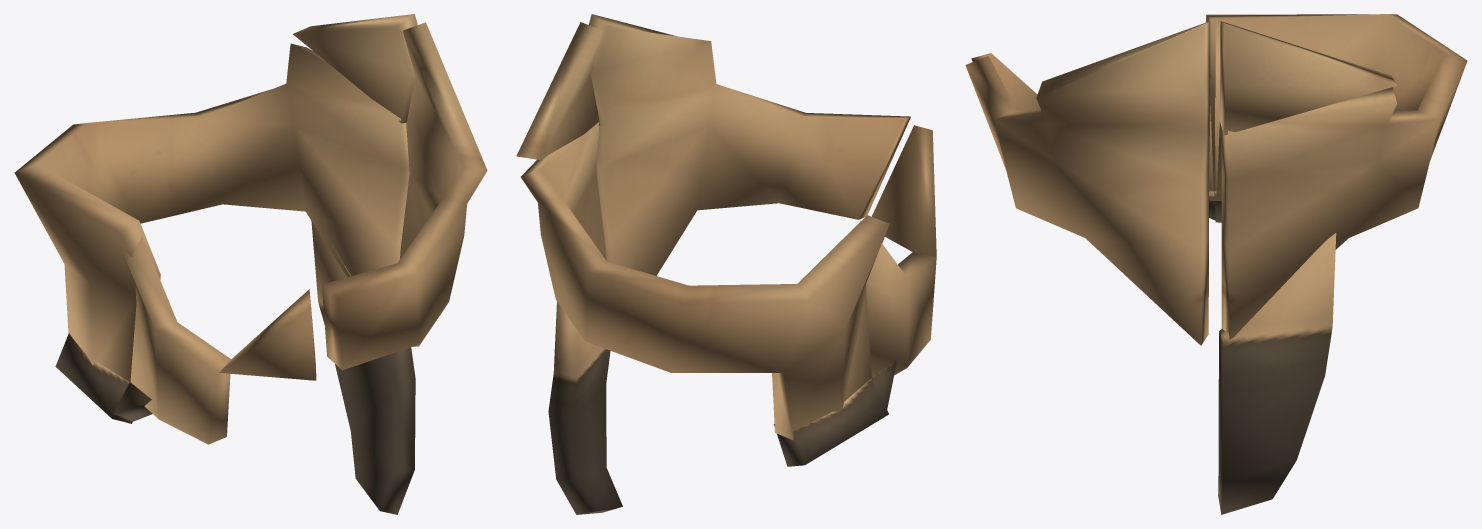
File: derived_chest.glb
3 renders of one model, left to right at view 1: azimuth 30°, elevation 25°; view 2: azimuth 150°, elevation 25°; view 3: azimuth 270°, elevation 25°, orthographic. The views are drawn at different scales.
Parts seen in each view (by area): view 1: DerivedChest; view 2: DerivedChest; view 3: DerivedChest.
Boxes of the visible parts, x1=… form: DerivedChest: x1=14, y1=14, x2=487, y2=514; DerivedChest: x1=516, y1=14, x2=936, y2=514; DerivedChest: x1=965, y1=14, x2=1467, y2=514.
Size of the model in its own units: 0.2144 by 0.3072 by 0.2799.
Materials: 1 (1 with a texture image).
